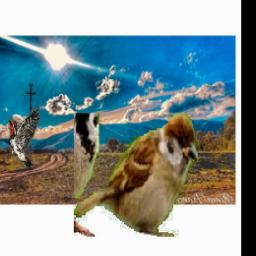Sparrow: (74, 114, 198, 238)
Woodpecker: (0, 106, 40, 168)
